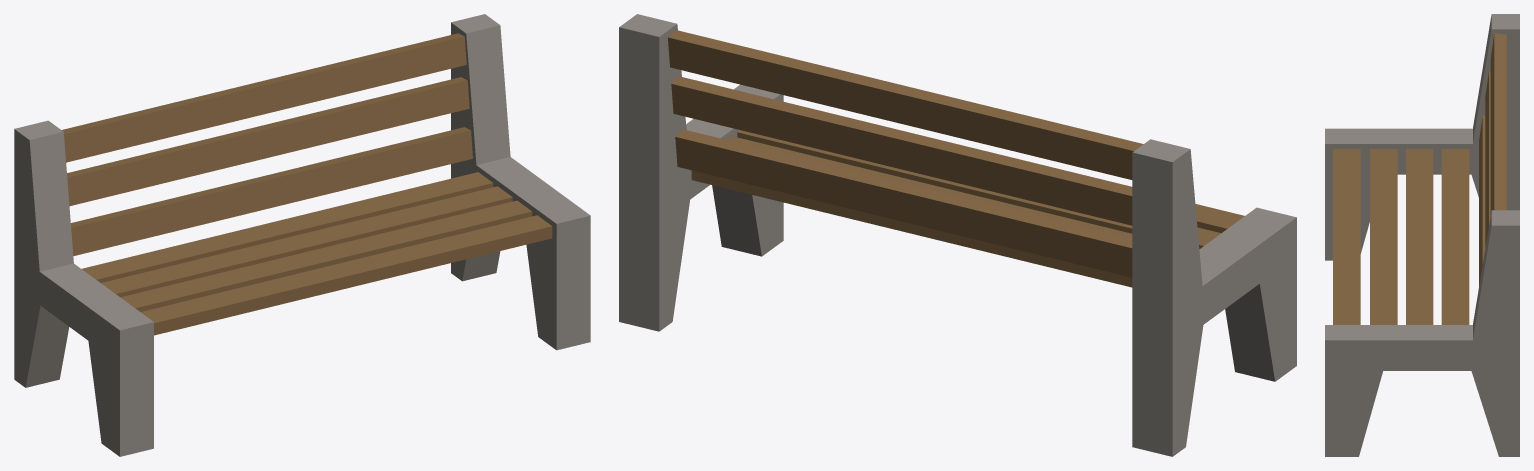
File: Bench_3.fbx
3 views of the same model, side by side, from view 1: azimuth 30°, elevation 25°; view 2: azimuth 150°, elevation 25°; view 3: azimuth 270°, elevation 25° (orthographic). The views are drawn at different scales.
Parts seen in each view (by area): view 1: Bench_3; view 2: Bench_3; view 3: Bench_3.
Boxes of the visible parts, box(x1,y1,x2,y2) form: Bench_3: box(14, 14, 590, 456); Bench_3: box(619, 14, 1296, 456); Bench_3: box(1325, 14, 1519, 456).
Bounding box in the file's own units: 187 × 95.34 × 72.85.
